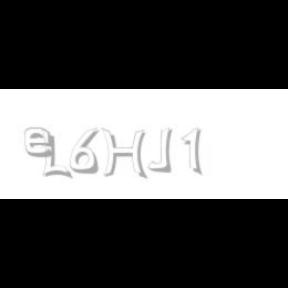1: (181, 128, 203, 176)
6: (70, 128, 98, 176)
H: (101, 128, 147, 180)
J: (148, 128, 172, 172)
L: (41, 128, 69, 180)
e: (24, 128, 57, 158)
